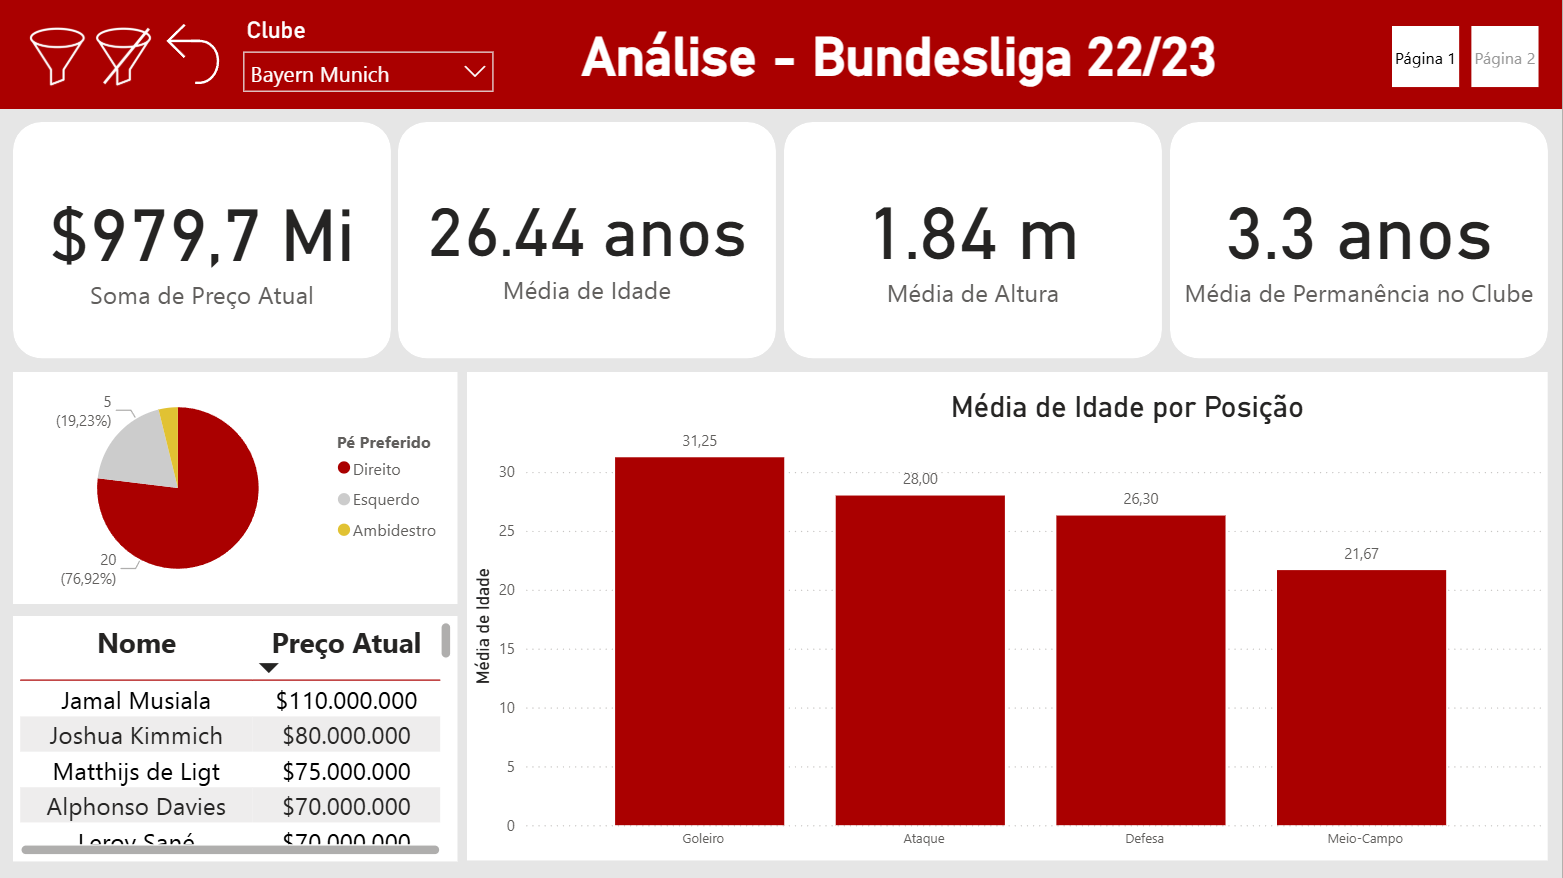

The dashboard page shown, as its layout file describes it:
{"tool":"powerbi","page":{"name":"Página 1","canvas":[1280,720],"ordinal":0},"visuals":[{"type":"textbox","box":[194.7,16.7,1085.3,60.7],"z":1000},{"type":"shape","box":[0,89.1,1280,630.1],"z":2000},{"type":"shape","box":[959.4,99.9,309.5,193.6],"z":3000},{"type":"tableEx","fields":{"Values":["bundesliga_player 2.Nome","Sum(bundesliga_player 2.Preço Atual)"]},"box":[11.7,504.1,364,200.6],"z":4000},{"type":"shape","box":[11.1,99.9,309.5,193.6],"z":5000},{"type":"card","fields":{"Values":["Sum(bundesliga_player 2.Preço Atual)"]},"box":[11.1,133.2,309.5,129.5],"z":6000},{"type":"clusteredColumnChart","title":"_","fields":{"Category":["bundesliga_player 2.Posição"],"Y":["Avg(bundesliga_player 2.Idade)"]},"box":[383.2,304.6,885.2,400.1],"z":7000},{"type":"pieChart","fields":{"Category":["bundesliga_player 2.Pé Preferido"],"Y":["CountNonNull(bundesliga_player 2.Pé Preferido)"]},"box":[11.7,304.6,364,190],"z":8000},{"type":"card","fields":{"Values":["bundesliga_player.Média de Permanência no Clube","select","select1"]},"box":[959.4,131.9,309.5,129.5],"z":9000},{"type":"textbox","box":[578.8,314.4,690,42.9],"z":10000},{"type":"shape","box":[326.8,99.9,309.5,193.6],"z":11000},{"type":"card","fields":{"Values":["bundesliga_player.Média de Idade (com texto)"]},"box":[326.8,131.9,309.5,129.5],"z":12000},{"type":"pageNavigator","box":[1141.2,21.4,120.4,50],"z":13000},{"type":"actionButton","box":[126.8,8.5,64,71.2],"z":14000},{"type":"shape","box":[642.5,99.9,309.5,193.6],"z":15000},{"type":"card","fields":{"Values":["bundesliga_player.Média de Altura (m)"]},"box":[642.5,131.9,309.5,129.5],"z":16000},{"type":"image","box":[19.3,7.2,114.7,77.3],"z":17000},{"type":"actionButton","box":[19.3,8.5,58,68.8],"z":18000},{"type":"actionButton","box":[76.1,8.5,58,68.8],"z":19000},{"type":"slicer","fields":{"Values":["bundesliga_player 2.Clube"]},"box":[189.6,8.5,224.6,68.8],"z":19500}]}

Visuals, with their boxes in screenshot pixels (x1, y1, x2, y2), scaled from the page's 1280x720 canvas onto the 1563x878 screenshot:
textbox: 238, 20, 1562, 94
shape: 0, 109, 1562, 877
shape: 1172, 122, 1549, 358
tableEx - bundesliga_player 2.Nome x Sum(bundesliga_player 2.Preço Atual): 14, 615, 459, 859
shape: 14, 122, 391, 358
card - Sum(bundesliga_player 2.Preço Atual): 14, 162, 391, 320
"_" clusteredColumnChart: 468, 371, 1549, 859
pieChart - bundesliga_player 2.Pé Preferido x CountNonNull(bundesliga_player 2.Pé Preferido): 14, 371, 459, 603
card - bundesliga_player.Média de Permanência no Clube x select: 1172, 161, 1549, 319
textbox: 707, 383, 1549, 436
shape: 399, 122, 777, 358
card - bundesliga_player.Média de Idade (com texto): 399, 161, 777, 319
pageNavigator: 1394, 26, 1541, 87
actionButton: 155, 10, 233, 97
shape: 785, 122, 1162, 358
card - bundesliga_player.Média de Altura (m): 785, 161, 1162, 319
image: 24, 9, 164, 103
actionButton: 24, 10, 94, 94
actionButton: 93, 10, 164, 94
slicer - bundesliga_player 2.Clube: 232, 10, 506, 94
